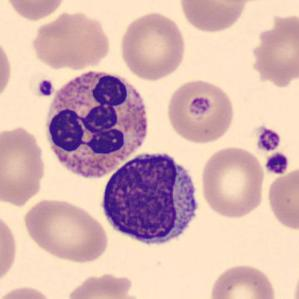Eosinophil: (38, 66, 152, 190)
Lymphocyte: (96, 146, 205, 250)
Platelets: (253, 125, 283, 153), (263, 151, 291, 176), (188, 93, 212, 119), (35, 77, 55, 99)
RBC: (20, 196, 110, 264), (117, 9, 188, 82), (29, 8, 112, 70), (163, 76, 237, 145), (198, 144, 266, 219), (0, 122, 47, 208), (250, 13, 299, 91), (206, 261, 278, 299), (177, 0, 252, 35), (265, 166, 299, 232), (65, 271, 138, 299), (0, 208, 20, 290), (2, 0, 69, 21), (0, 34, 14, 104), (0, 283, 59, 299)
